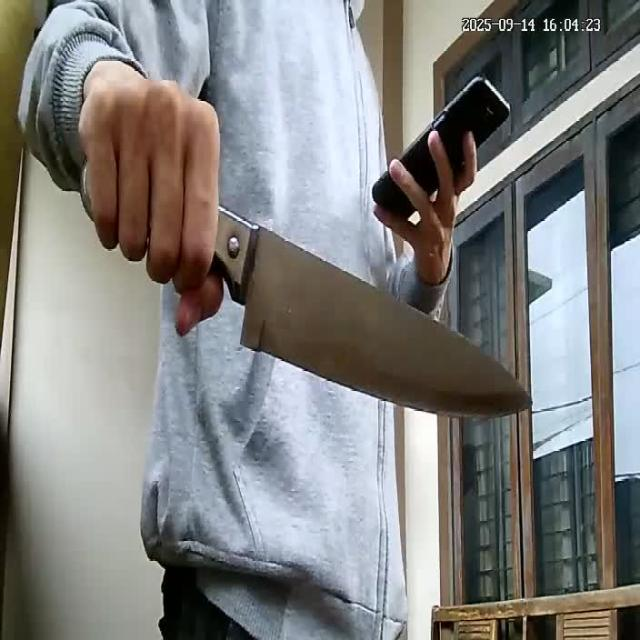senjata_tajam: (220, 208, 536, 424)
